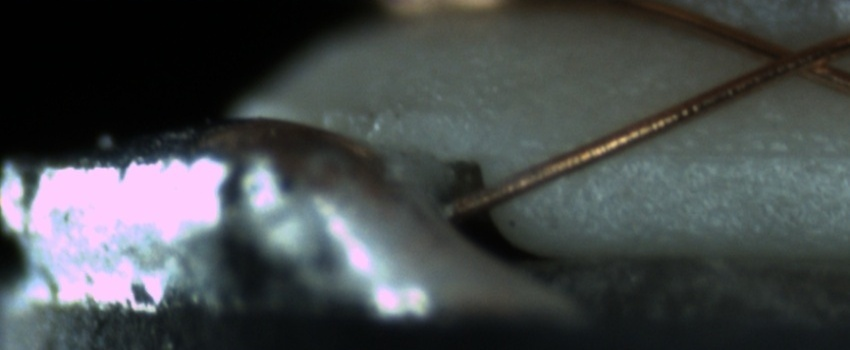CL: (743, 31, 839, 86)
DL: (560, 120, 850, 186)
